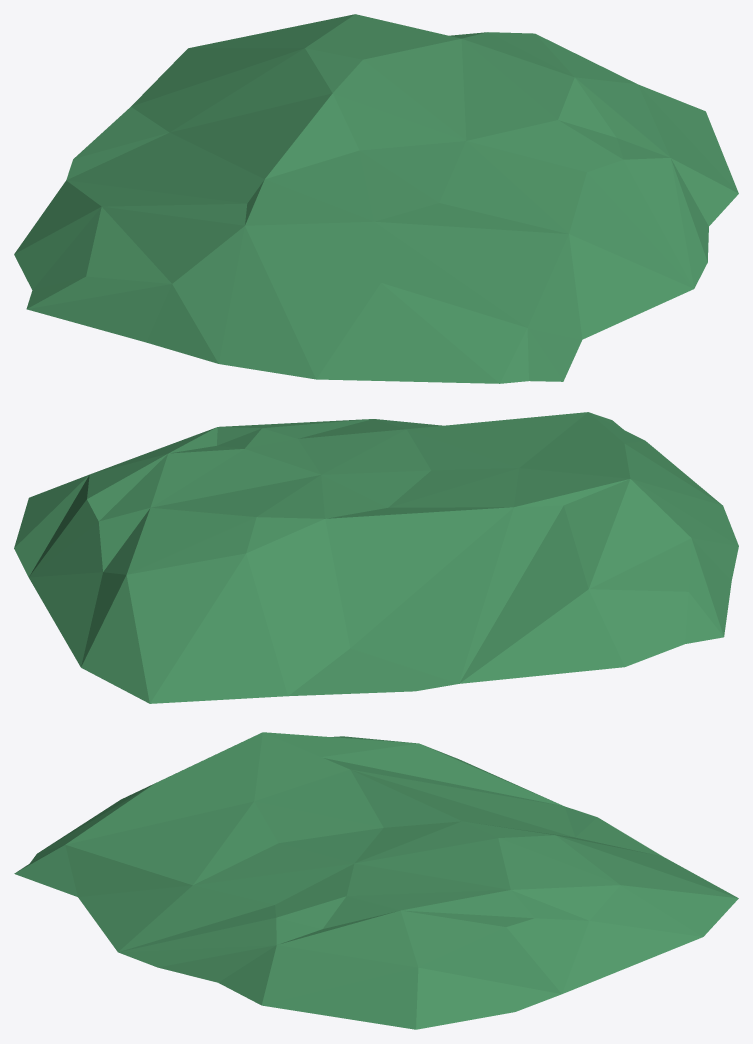
Rendered from GrassPatchSmall_01.glb.
3 renders of one model, top to bottom at view 1: azimuth 30°, elevation 25°; view 2: azimuth 150°, elevation 25°; view 3: azimuth 270°, elevation 25°, orthographic. The views are drawn at different scales.
Visible parts, largest first — view 1: GrassPatchSmall_01; view 2: GrassPatchSmall_01; view 3: GrassPatchSmall_01.
Part boxes in pixels (x1=…): GrassPatchSmall_01: x1=14, y1=14, x2=738, y2=383; GrassPatchSmall_01: x1=14, y1=412, x2=738, y2=703; GrassPatchSmall_01: x1=14, y1=732, x2=738, y2=1029.
Size of what is drawn, in the model's own units: 3.09 by 0.3642 by 3.27.
1 material, 1 textured.
